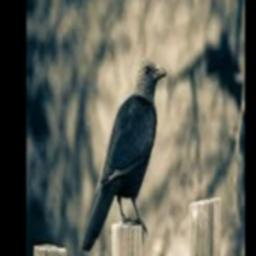Crow: (80, 58, 166, 252)
